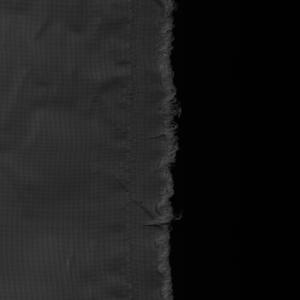Damage: (152, 1, 189, 300)
Wrinkle: (1, 4, 118, 300)
